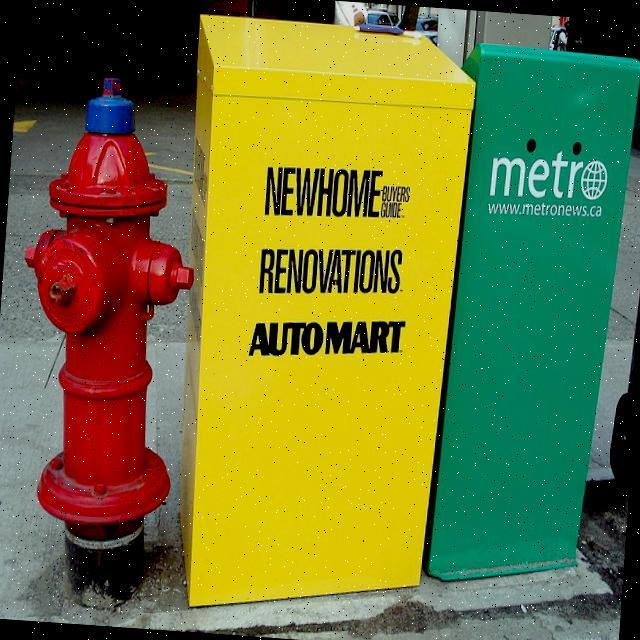fire_hydrant: (0, 85, 207, 610)
